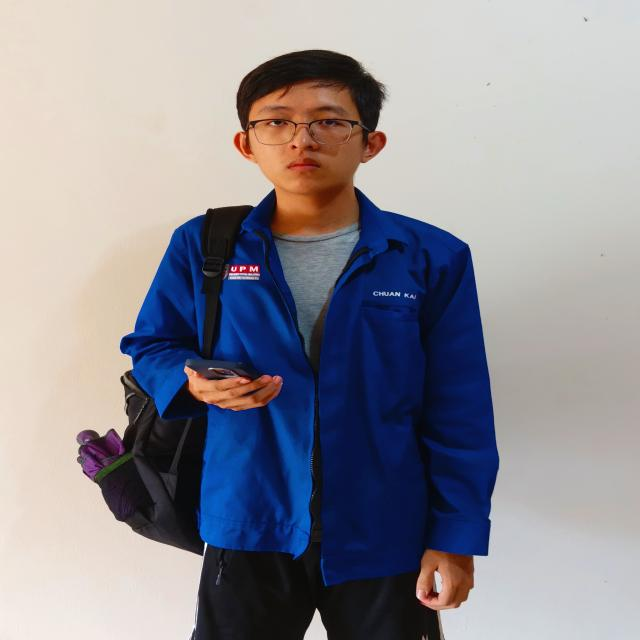person_with_labcoat: (78, 50, 498, 640)
